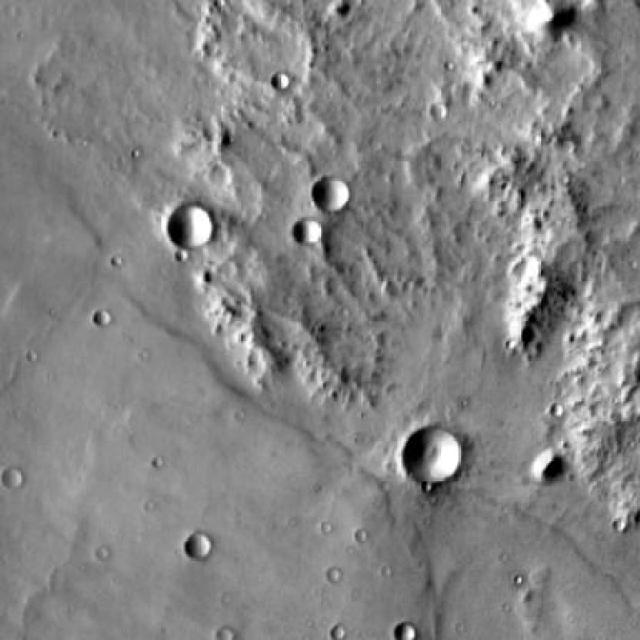crater: (403, 430, 460, 487), (164, 206, 213, 254), (314, 176, 352, 215), (293, 222, 318, 246), (187, 536, 211, 561), (268, 72, 288, 92), (400, 623, 422, 640), (3, 469, 22, 488), (92, 308, 110, 326), (430, 99, 448, 116), (330, 620, 347, 635)
